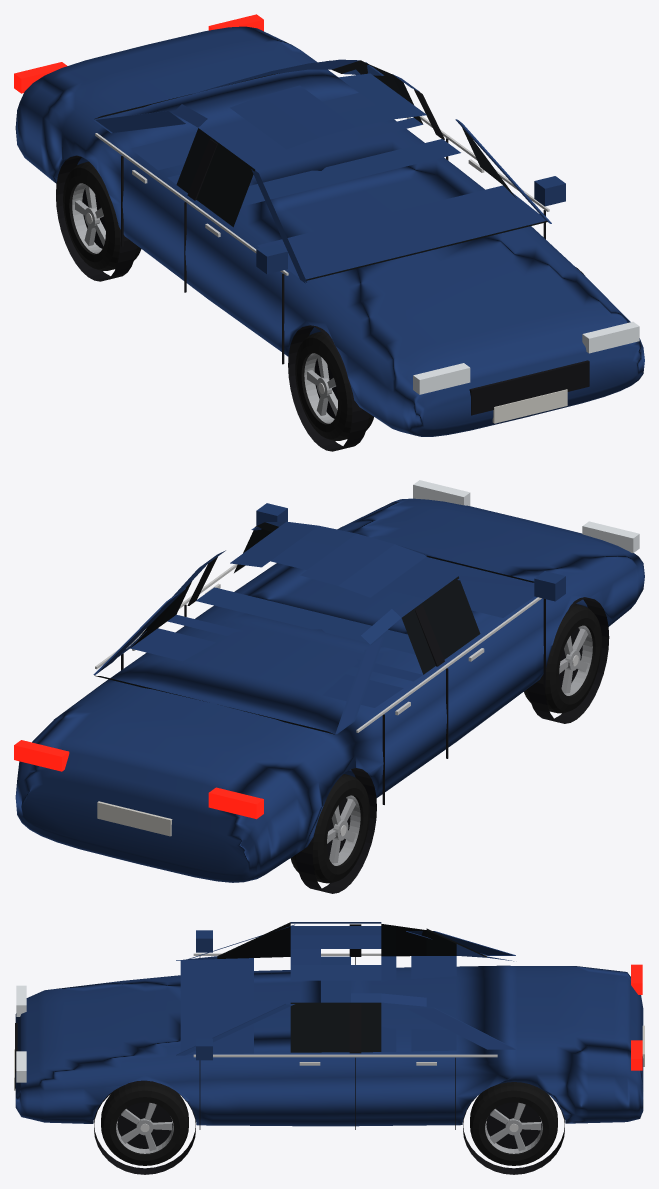
File: vehicle_Company_Sedan_Navy.glb
3 renders of one model, top to bottom at view 1: azimuth 30°, elevation 25°; view 2: azimuth 150°, elevation 25°; view 3: azimuth 270°, elevation 25°, orthographic. The views are drawn at different scales.
Visible parts, largest first — view 1: Company_Sedan_Navy_Body, Company_Sedan_Navy_Cabin, Company_Sedan_Navy_Trim, Company_Sedan_Navy_Wheel_FR, Company_Sedan_Navy_Wheel_RR; view 2: Company_Sedan_Navy_Body, Company_Sedan_Navy_Cabin, Company_Sedan_Navy_Trim, Company_Sedan_Navy_Wheel_RR, Company_Sedan_Navy_Wheel_FR; view 3: Company_Sedan_Navy_Body, Company_Sedan_Navy_Cabin, Company_Sedan_Navy_Trim, Company_Sedan_Navy_Wheel_FL, Company_Sedan_Navy_Wheel_RL.
Part boxes in pixels (left/top/right/bottom): Company_Sedan_Navy_Body: left=15, top=26, right=644, bottom=436; Company_Sedan_Navy_Cabin: left=94, top=59, right=551, bottom=283; Company_Sedan_Navy_Trim: left=14, top=14, right=639, bottom=451; Company_Sedan_Navy_Wheel_FR: left=295, top=331, right=373, bottom=440; Company_Sedan_Navy_Wheel_RR: left=63, top=161, right=141, bottom=270; Company_Sedan_Navy_Body: left=15, top=498, right=644, bottom=882; Company_Sedan_Navy_Cabin: left=93, top=521, right=534, bottom=734; Company_Sedan_Navy_Trim: left=14, top=480, right=639, bottom=893; Company_Sedan_Navy_Wheel_RR: left=290, top=774, right=369, bottom=883; Company_Sedan_Navy_Wheel_FR: left=524, top=604, right=601, bottom=713; Company_Sedan_Navy_Body: left=15, top=965, right=643, bottom=1126; Company_Sedan_Navy_Cabin: left=176, top=922, right=515, bottom=1055; Company_Sedan_Navy_Trim: left=14, top=930, right=644, bottom=1174; Company_Sedan_Navy_Wheel_FL: left=101, top=1082, right=188, bottom=1165; Company_Sedan_Navy_Wheel_RL: left=470, top=1082, right=557, bottom=1165.
Bounding box in the file's own units: 2.12 × 1.5 × 4.87.
